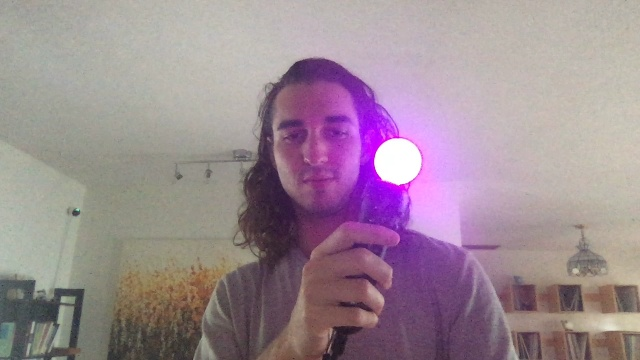wand: (374, 140, 422, 184)
